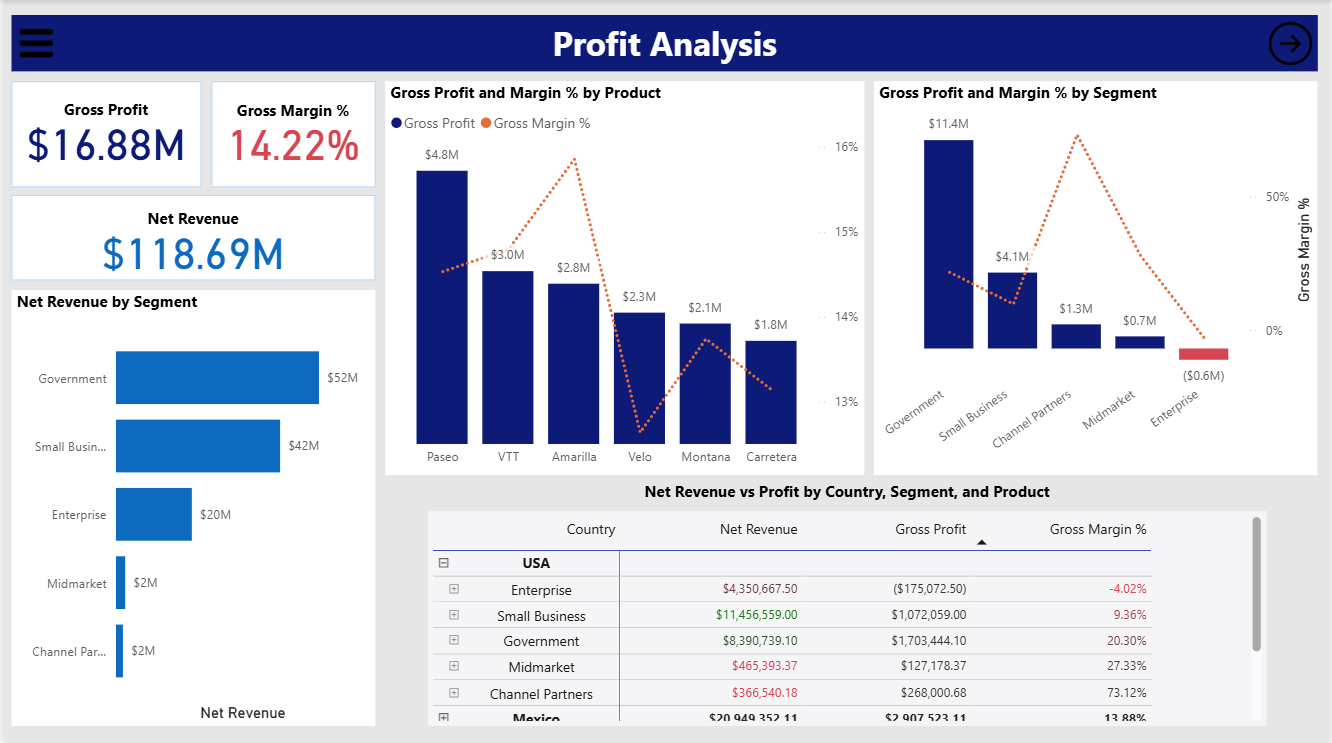

Layout of this report page (visuals, bound fields, positions):
{"tool":"powerbi","page":{"name":"Profits","canvas":[1280,720],"ordinal":1},"visuals":[{"type":"cardVisual","fields":{"Data":["financials.Gross Profit"]},"box":[7.2,78.4,183.4,102.5],"z":0},{"type":"cardVisual","fields":{"Data":["financials.Gross Margin %"]},"box":[200.3,78.4,158,102.5],"z":1000},{"type":"lineClusteredColumnComboChart","title":"Gross Profit and Margin % by Product","fields":{"Y2":["financials.Gross Margin %"],"Y":["financials.Gross Profit"],"Category":["financials. Prod. "]},"box":[368,78.4,462.1,380],"z":2000},{"type":"lineClusteredColumnComboChart","title":"Gross Profit and Margin % by Segment","fields":{"Category":["financials.Segment"],"Y2":["financials.Gross Margin %"],"Y":["financials.Gross Profit"]},"box":[839.7,78.4,428.3,380],"z":3000},{"type":"pivotTable","fields":{"Values":["financials.Net Revenue","financials.Gross Profit","financials.Gross Margin %"],"Rows":["financials.Country Hierarchy.Country","financials.Country Hierarchy.Segment","financials.Country Hierarchy. Prod. "]},"box":[409,493.4,809.5,207.5],"z":4000},{"type":"cardVisual","fields":{"Data":["financials.Net Revenue"]},"box":[7.2,188.2,351.1,82],"z":5000},{"type":"textbox","box":[7.2,14.5,1260.7,54.3],"z":6000},{"type":"barChart","fields":{"Y":["financials.Net Revenue"],"Category":["financials.Segment"]},"box":[7.2,279.9,351.1,421],"z":7000},{"type":"textbox","box":[541.7,458.4,544.1,32.6],"z":8000},{"type":"image","box":[9.7,15.7,43.4,51.9],"z":10000},{"type":"image","box":[1215.8,13,51,57.8],"z":11000}]}

Visuals, with their boxes in screenshot pixels (x1, y1, x2, y2), scaled from the page's 1280x720 canvas onto the 1332x743 screenshot:
cardVisual - financials.Gross Profit: box=[7, 81, 198, 187]
cardVisual - financials.Gross Margin %: box=[208, 81, 373, 187]
"Gross Profit and Margin % by Product" lineClusteredColumnComboChart: box=[383, 81, 864, 473]
"Gross Profit and Margin % by Segment" lineClusteredColumnComboChart: box=[874, 81, 1320, 473]
pivotTable - financials.Net Revenue x financials.Gross Profit: box=[426, 509, 1268, 723]
cardVisual - financials.Net Revenue: box=[7, 194, 373, 279]
textbox: box=[7, 15, 1319, 71]
barChart - financials.Net Revenue x financials.Segment: box=[7, 289, 373, 723]
textbox: box=[564, 473, 1130, 507]
image: box=[10, 16, 55, 70]
image: box=[1265, 13, 1318, 73]
